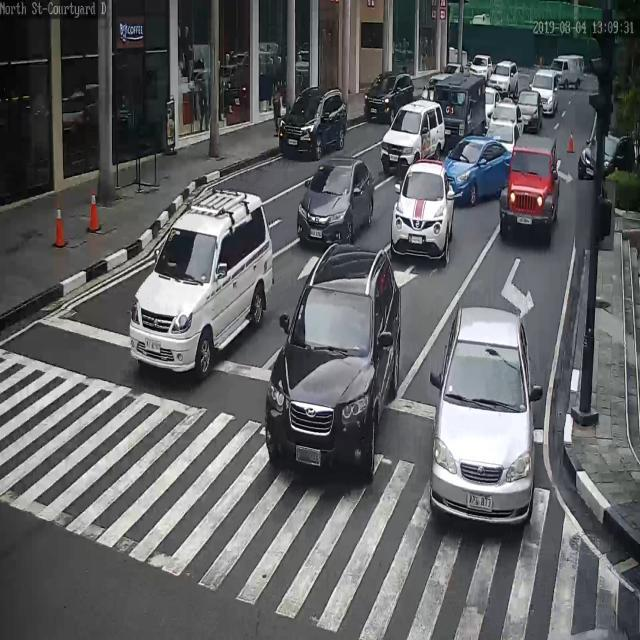bus: (433, 74, 486, 142)
car: (266, 247, 399, 471), (128, 184, 272, 376), (431, 300, 534, 526), (298, 155, 374, 246), (392, 159, 455, 258), (278, 85, 347, 160), (443, 135, 512, 202), (381, 101, 446, 170), (577, 131, 638, 180), (362, 72, 416, 123), (492, 99, 524, 137), (487, 119, 521, 153), (488, 60, 519, 96), (517, 93, 544, 132), (469, 54, 494, 78), (486, 87, 501, 127)
tricycle: (498, 134, 561, 242)
van: (529, 69, 561, 112), (549, 56, 584, 88)
